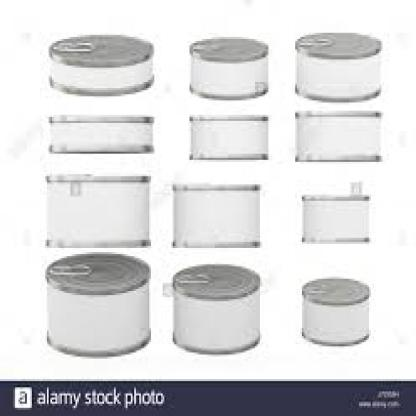Compsot: (45, 252, 148, 355), (171, 262, 258, 352), (43, 170, 148, 244), (47, 31, 153, 94), (294, 29, 380, 98), (171, 180, 258, 244), (188, 35, 267, 98), (292, 108, 381, 160), (300, 277, 369, 344), (48, 112, 152, 154), (299, 178, 369, 240), (186, 115, 267, 160)
